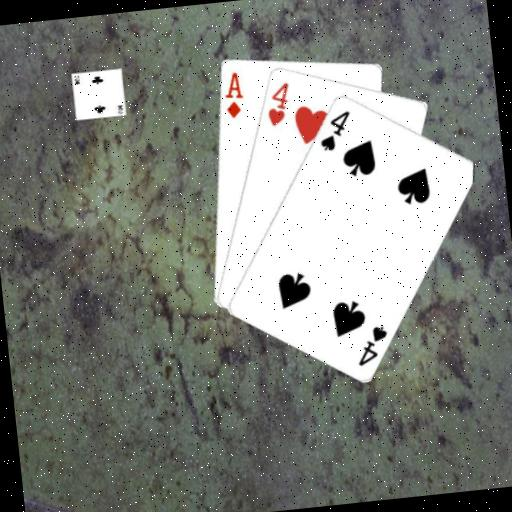4H: (261, 79, 294, 129)
4S: (314, 107, 355, 154), (352, 322, 393, 368)
AD: (220, 68, 247, 120)
